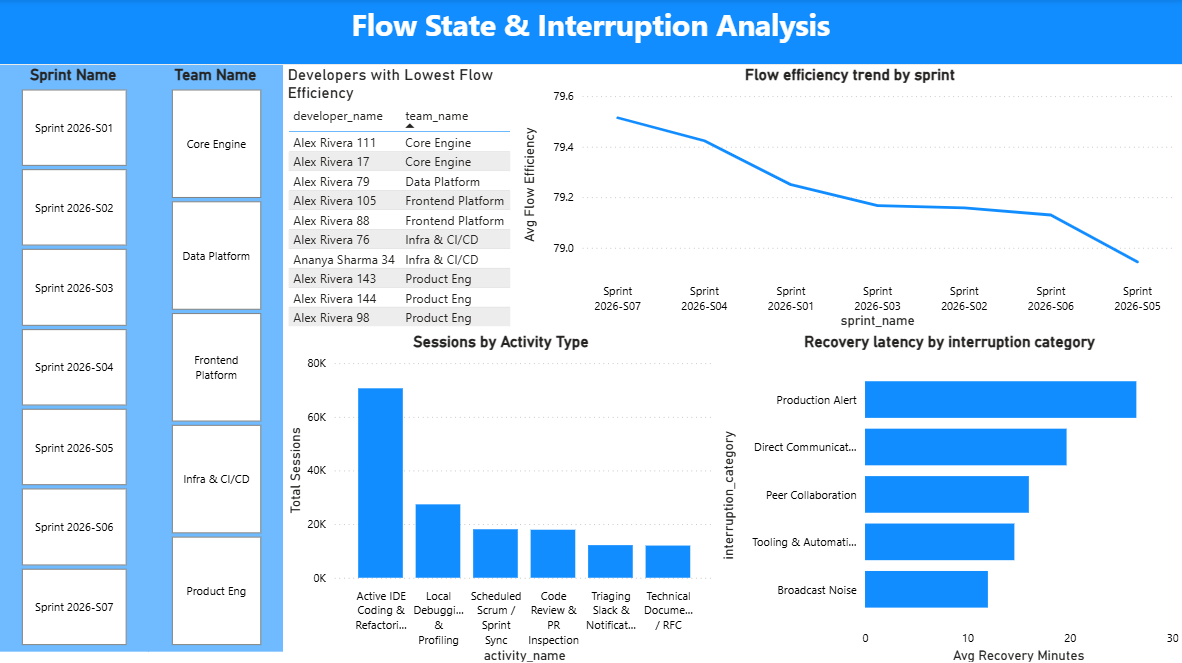

What the dashboard file says about the page in this screenshot:
{"tool":"powerbi","page":{"name":"Page 2","canvas":[1280,720],"ordinal":1},"visuals":[{"type":"textbox","box":[0,0,1279.4,71.8],"z":0},{"type":"slicer","title":"Sprint Name","fields":{"Values":["Dim Date.sprint_name"]},"box":[0,71.8,162.5,633.1],"z":1000},{"type":"slicer","title":"Team Name","fields":{"Values":["Dim Developer.team_name"]},"box":[161.9,71.2,145.7,633.1],"z":2000},{"type":"lineChart","title":" Flow efficiency trend by sprint","fields":{"Category":["Dim Date.sprint_name"],"Y":["measures table (2).Avg Flow Efficiency"]},"box":[560.3,71.2,718.9,288.2],"z":3000},{"type":"clusteredColumnChart","title":"Sessions by Activity Type","fields":{"Category":["Activity  Log.activity_name"],"Y":["measures table (2).Total Sessions"]},"box":[308,359.1,470.6,360.9],"z":4000},{"type":"clusteredBarChart","title":" Recovery latency by interruption category","fields":{"Category":["dim_interruption_cleaned.interruption_category"],"Y":["measures table (2).Avg Recovery Minutes"]},"box":[775.6,359.5,503.6,361.1],"z":5000},{"type":"tableEx","title":"Developers with Lowest Flow Efficiency ","fields":{"Values":["Dim Developer.developer_name","Dim Developer.team_name"]},"box":[307.7,71.2,252.6,288.2],"z":6000}]}

Visuals, with their boxes in screenshot pixels (x1, y1, x2, y2), scaled from the page's 1280x720 canvas onto the 1182x663 screenshot:
textbox: pyautogui.locateOnScreen(0, 0, 1181, 66)
"Sprint Name" slicer: pyautogui.locateOnScreen(0, 66, 150, 649)
"Team Name" slicer: pyautogui.locateOnScreen(150, 66, 284, 649)
" Flow efficiency trend by sprint" lineChart: pyautogui.locateOnScreen(517, 66, 1181, 331)
"Sessions by Activity Type" clusteredColumnChart: pyautogui.locateOnScreen(284, 331, 719, 662)
" Recovery latency by interruption category" clusteredBarChart: pyautogui.locateOnScreen(716, 331, 1181, 662)
"Developers with Lowest Flow Efficiency " tableEx: pyautogui.locateOnScreen(284, 66, 517, 331)
